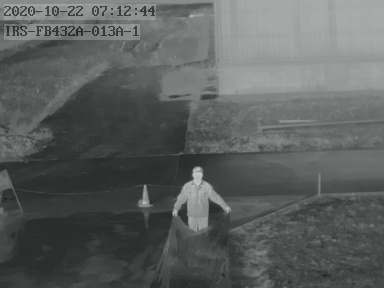person: (172, 167, 231, 228)
